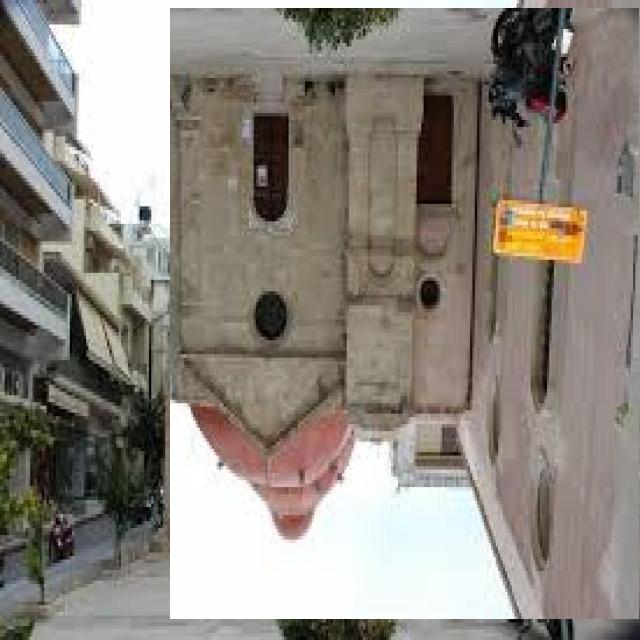Agia Aikaterini: (171, 9, 640, 620)
